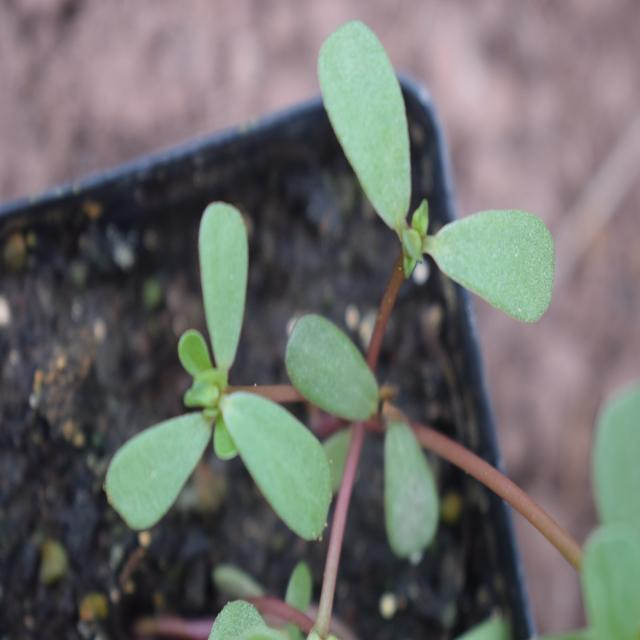purslane: (108, 29, 571, 613)
